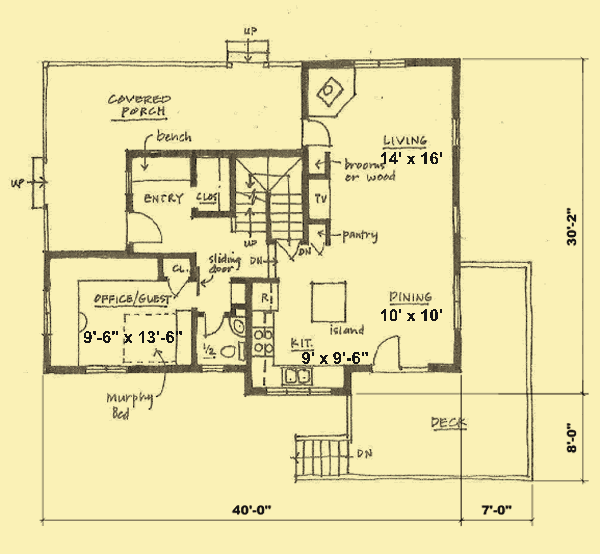door: (124, 208, 164, 244), (370, 334, 401, 369), (200, 310, 225, 339)
stairs: (231, 157, 303, 248), (289, 433, 372, 481), (224, 26, 269, 66)
twin_sink: (279, 366, 318, 387)
windows: (452, 273, 465, 330), (80, 362, 131, 374), (353, 59, 404, 70)
